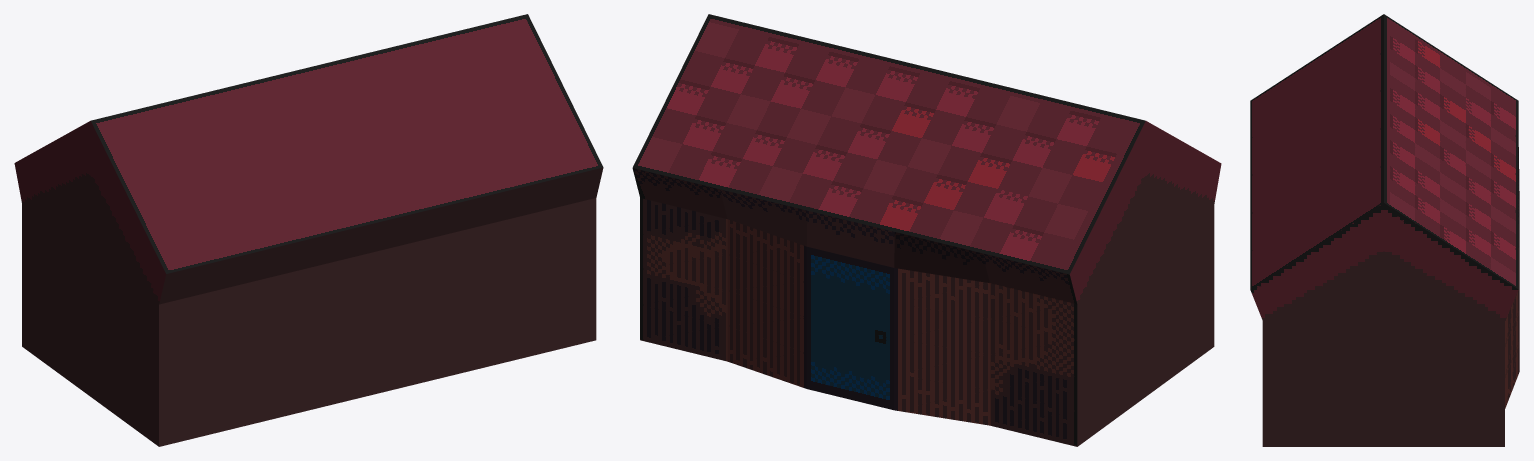
The model's file is house.gltf.
The picture shows the model from 3 angles, left to right: view 1: azimuth 30°, elevation 25°; view 2: azimuth 150°, elevation 25°; view 3: azimuth 270°, elevation 25°; orthographic projection. The views are drawn at different scales.
Visible parts, largest first — view 1: house; view 2: house; view 3: house.
Boxes of the visible parts, x1=… form: house: x1=14, y1=14, x2=603, y2=446; house: x1=632, y1=14, x2=1221, y2=446; house: x1=1250, y1=14, x2=1519, y2=446.
Bounding box in the file's own units: 3.62 × 2.19 × 2.19.
Materials: 1 (1 with a texture image).
